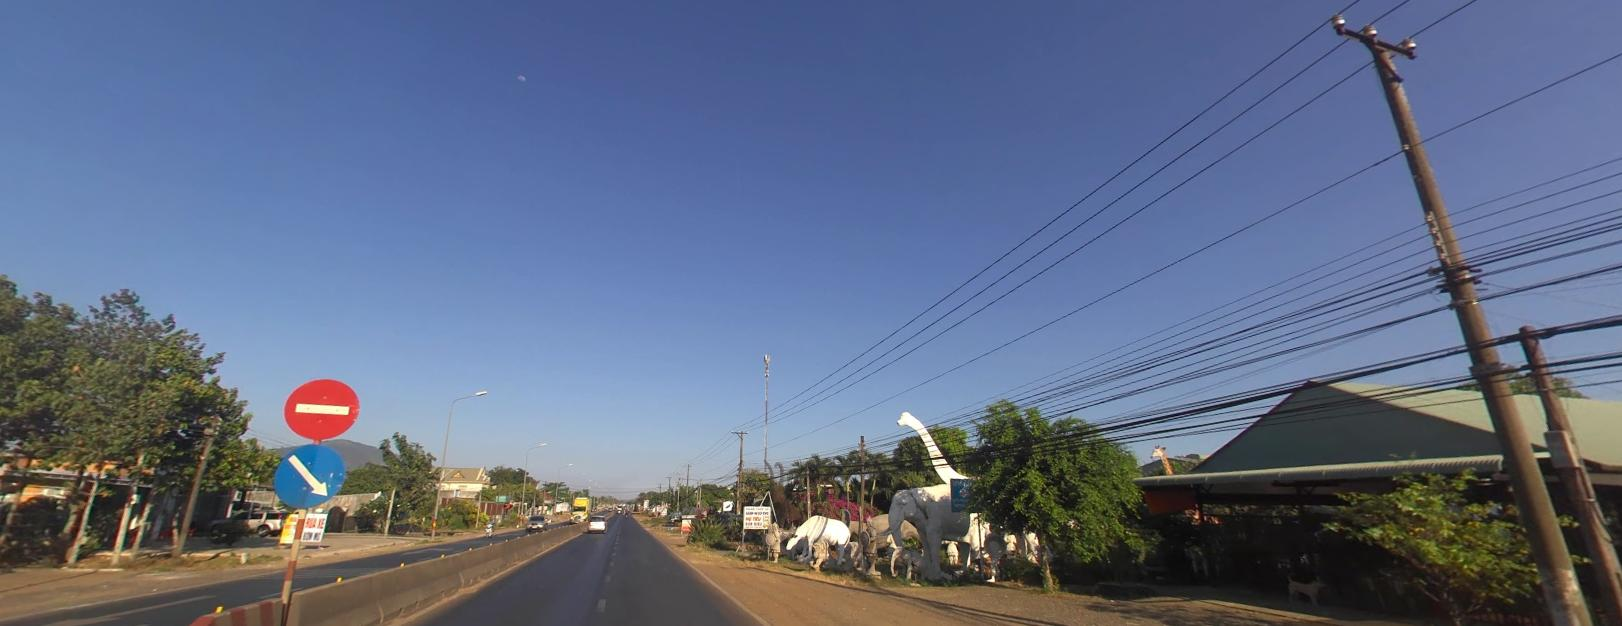Cam nguoc chieu: (279, 370, 360, 440)
Hieu lenh: (271, 439, 347, 511)
